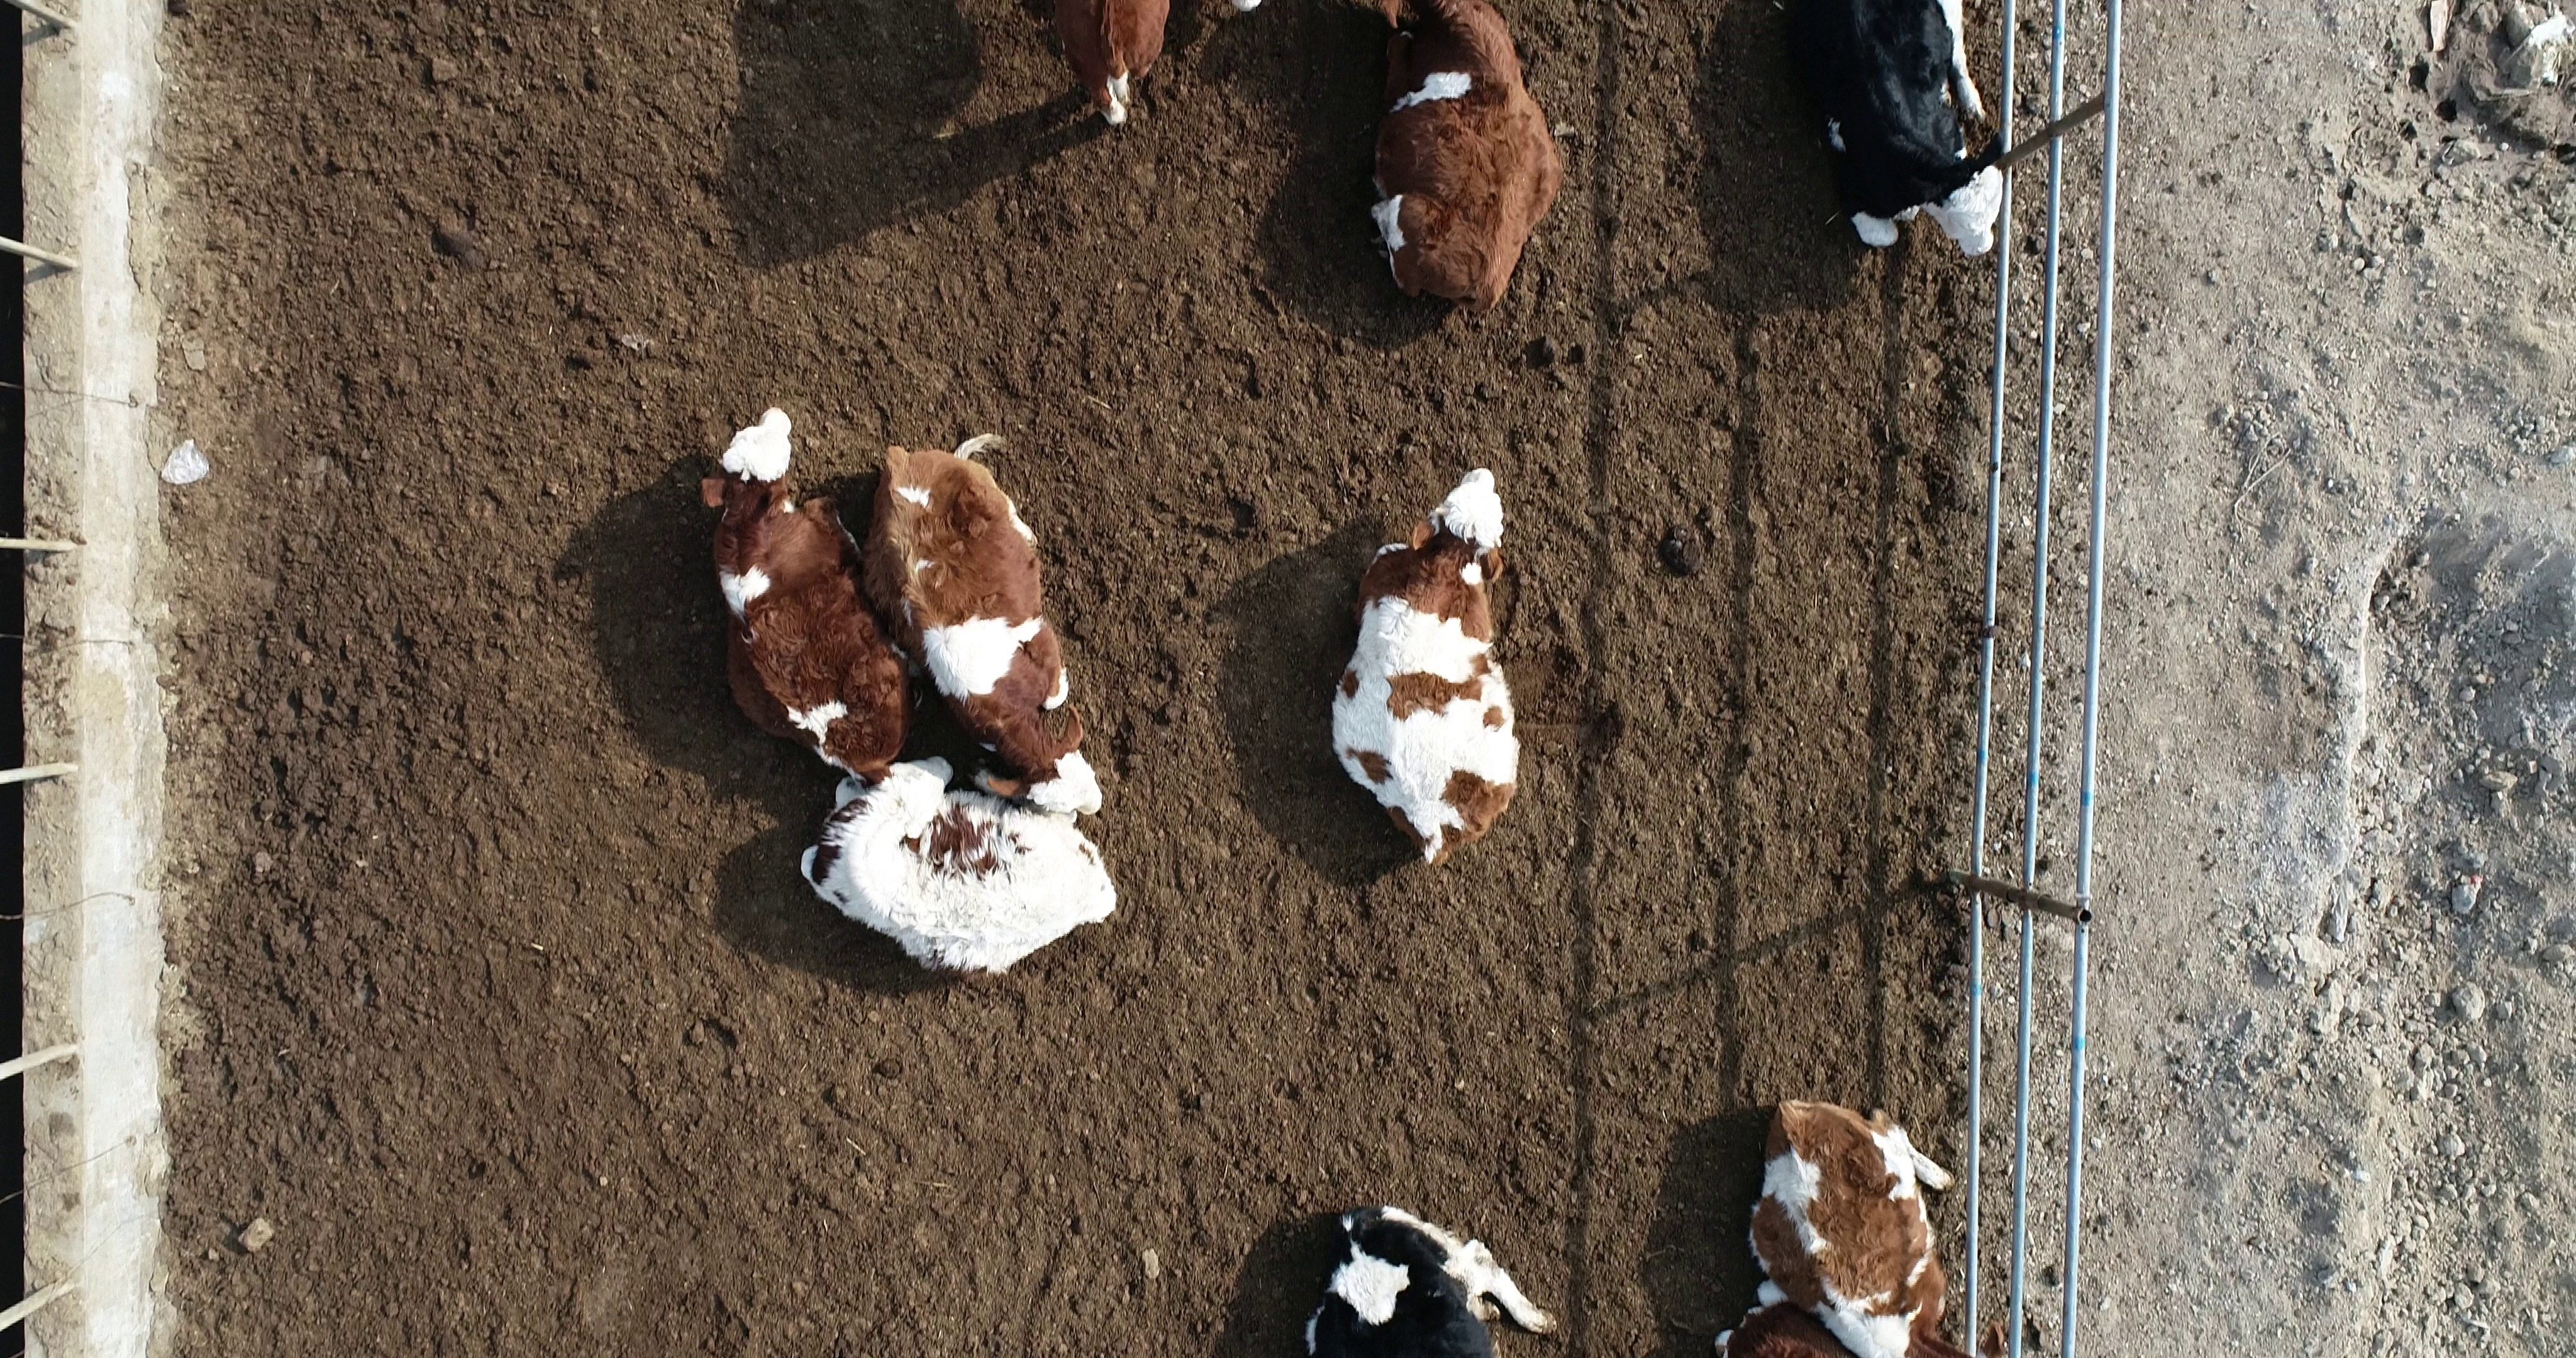cattle: (855, 426, 1107, 818), (692, 404, 932, 789), (1322, 463, 1527, 874), (791, 751, 1123, 983)
